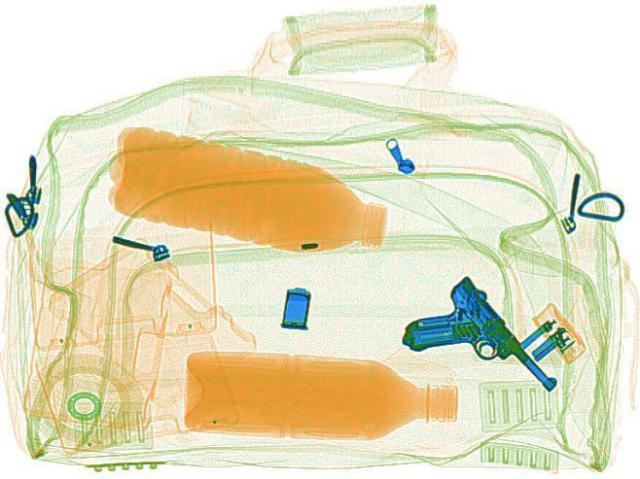Gun: (375, 274, 561, 421)
